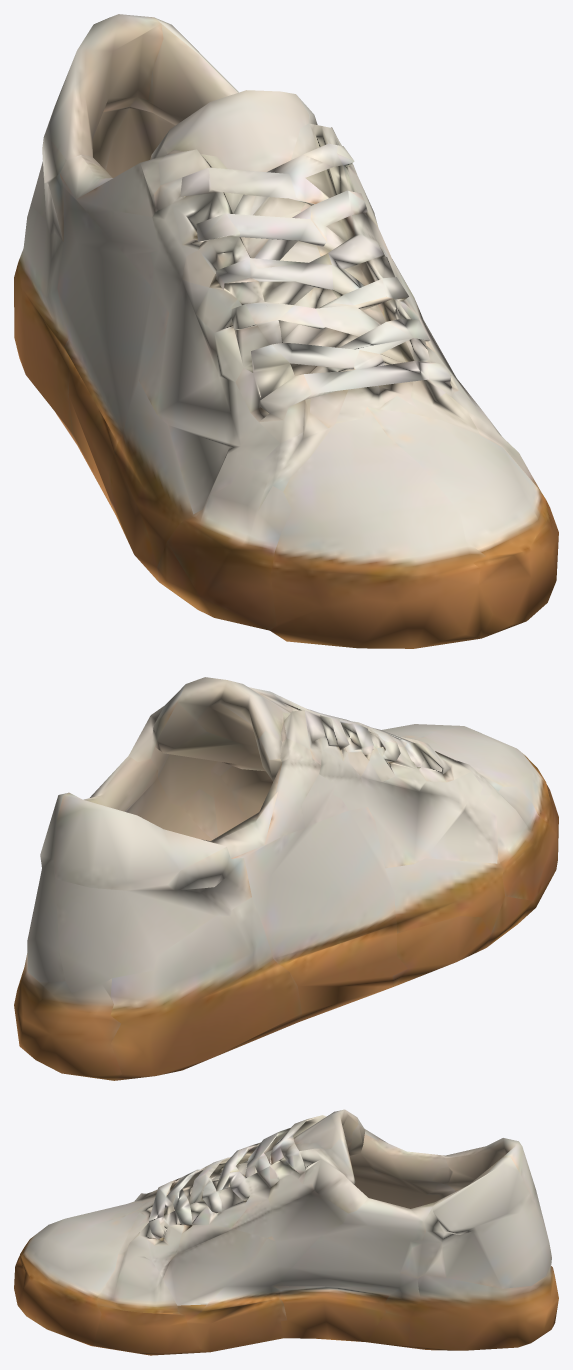
Rendered from sneaker.lod2.glb.
3 views of the same model, one above another, from view 1: azimuth 30°, elevation 25°; view 2: azimuth 150°, elevation 25°; view 3: azimuth 270°, elevation 25° (orthographic). The views are drawn at different scales.
Visible parts, largest first — view 1: tripo_node_910dd0d6-38bd-4720-94f2-983c298dfd54; view 2: tripo_node_910dd0d6-38bd-4720-94f2-983c298dfd54; view 3: tripo_node_910dd0d6-38bd-4720-94f2-983c298dfd54.
Boxes of the visible parts, x1=… form: tripo_node_910dd0d6-38bd-4720-94f2-983c298dfd54: x1=14, y1=14, x2=558, y2=648; tripo_node_910dd0d6-38bd-4720-94f2-983c298dfd54: x1=14, y1=677, x2=558, y2=1080; tripo_node_910dd0d6-38bd-4720-94f2-983c298dfd54: x1=14, y1=1109, x2=558, y2=1355.
Bounding box in the file's own units: 0.1082 × 0.1149 × 0.2689.
Materials: 1 (1 with a texture image).
